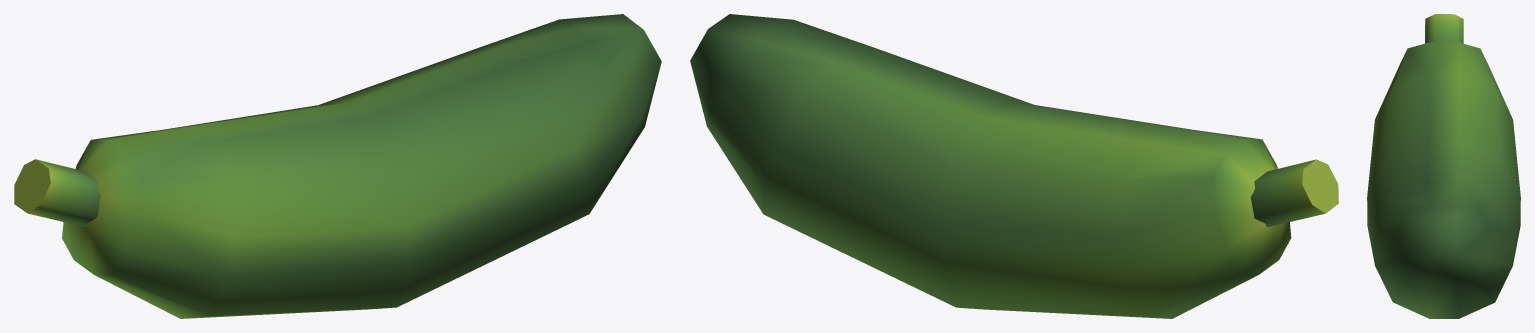
The model's file is cucumber_2.fbx.
3 renders of one model, left to right at view 1: azimuth 30°, elevation 25°; view 2: azimuth 150°, elevation 25°; view 3: azimuth 270°, elevation 25°, orthographic. The views are drawn at different scales.
Visible parts, largest first — view 1: cucumber_2; view 2: cucumber_2; view 3: cucumber_2.
Boxes of the visible parts, box(x1,y1,x2,y2) form: cucumber_2: box(14, 14, 661, 318); cucumber_2: box(690, 14, 1338, 318); cucumber_2: box(1367, 14, 1520, 318).
Bounding box in the file's own units: 52.41 × 17.06 × 15.28.
